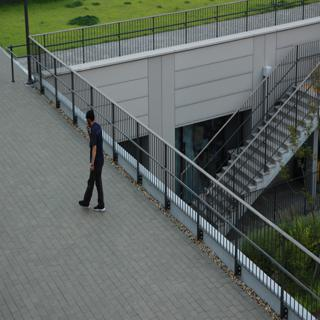person: (78, 104, 112, 216)
